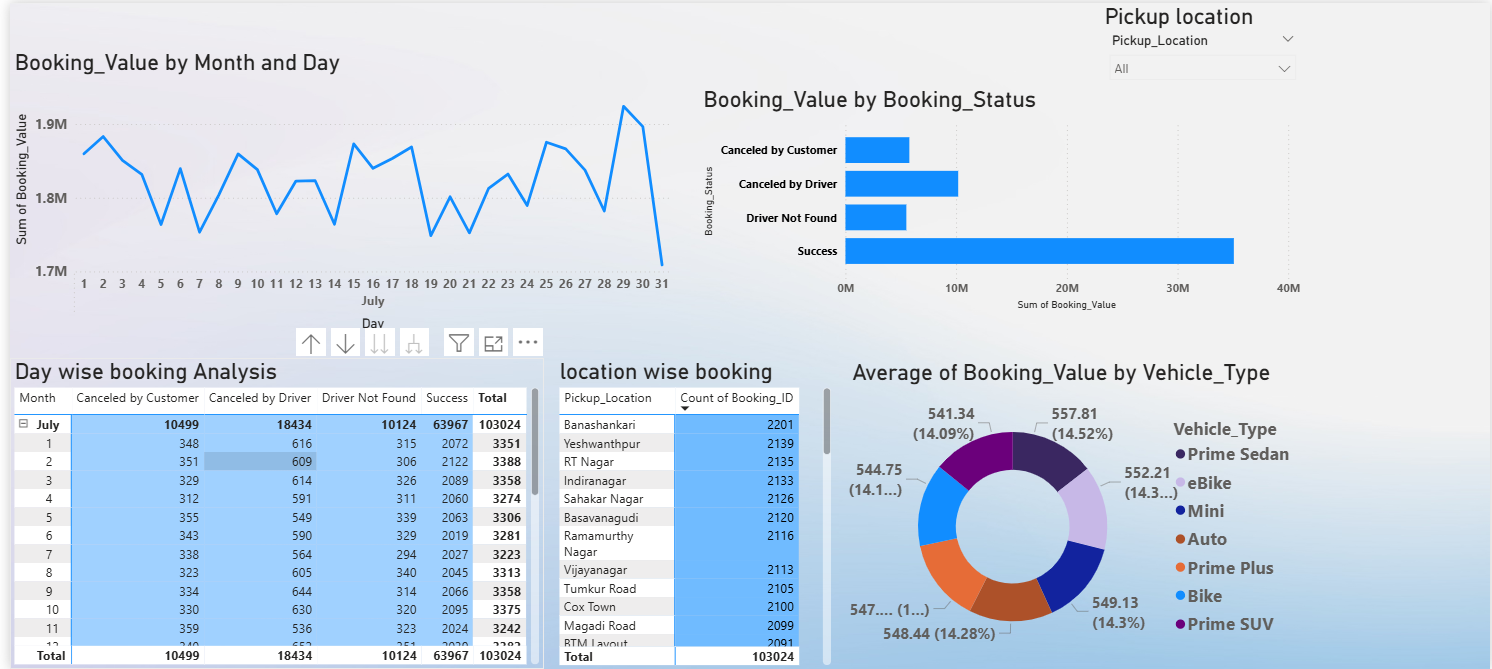

The dashboard page shown, as its layout file describes it:
{"tool":"powerbi","page":{"name":"Page 2","canvas":[1600,720],"ordinal":1},"visuals":[{"type":"lineChart","title":"Booking_Value by Month and Day","fields":{"Y":["Sum(bookings_july (2).Booking_Value)"],"Category":["Date.Date.Variation.Date Hierarchy.Month","Date.Date.Variation.Date Hierarchy.Day"]},"box":[0,50,718.5,309.3],"z":0},{"type":"donutChart","fields":{"Category":["bookings_july (2).Vehicle_Type"],"Y":["Avg(bookings_july (2).Booking_Value)"]},"box":[905.6,385.2,494.4,335.2],"z":1000},{"type":"barChart","title":"Booking_Value by Booking_Status","fields":{"Category":["bookings_july (2).Booking_Status"],"Y":["Sum(bookings_july (2).Booking_Value)"]},"box":[744.4,90.7,655.6,246.3],"z":2000},{"type":"pivotTable","title":"location wise booking","fields":{"Rows":["bookings_july (2).Pickup_Location"],"Values":["Count(bookings_july (2).Booking_ID)"]},"box":[588.9,383.3,303.7,337],"z":3000},{"type":"pivotTable","title":"Day wise booking Analysis","fields":{"Rows":["Date.Date.Variation.Date Hierarchy.Month","Date.Date.Variation.Date Hierarchy.Day"],"Columns":["bookings_july (2).Booking_Status"],"Values":["CountNonNull(bookings_july (2).Booking_ID)"]},"box":[0,384.4,577.3,336.2],"z":4000},{"type":"slicer","title":"Pickup location","fields":{"Values":["bookings_july (2).Pickup_Location"]},"box":[1177.8,0,222.2,94.4],"z":5000}]}

Visuals, with their boxes in screenshot pixels (x1, y1, x2, y2), scaled from the page's 1600x720 canvas onto the 1492x669 screenshot:
"Booking_Value by Month and Day" lineChart: (x1=0, y1=46, x2=670, y2=334)
donutChart - bookings_july (2).Vehicle_Type x Avg(bookings_july (2).Booking_Value): (x1=844, y1=358, x2=1306, y2=668)
"Booking_Value by Booking_Status" barChart: (x1=694, y1=84, x2=1306, y2=313)
"location wise booking" pivotTable: (x1=549, y1=356, x2=832, y2=668)
"Day wise booking Analysis" pivotTable: (x1=0, y1=357, x2=538, y2=668)
"Pickup location" slicer: (x1=1098, y1=0, x2=1306, y2=88)
